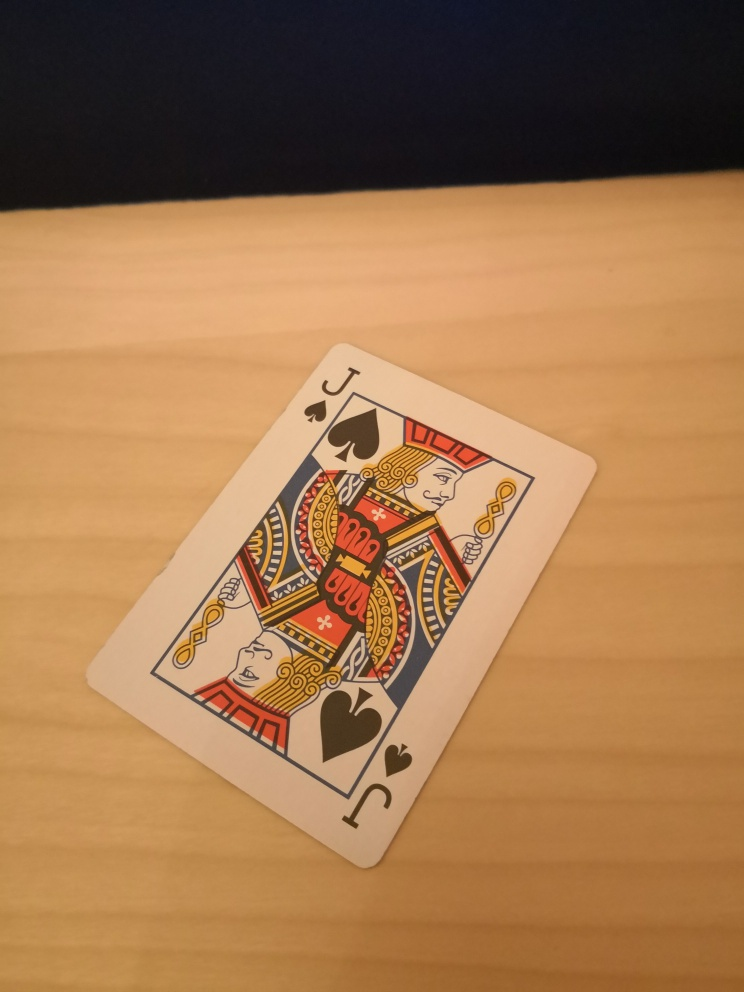jack: (85, 342, 598, 869)
